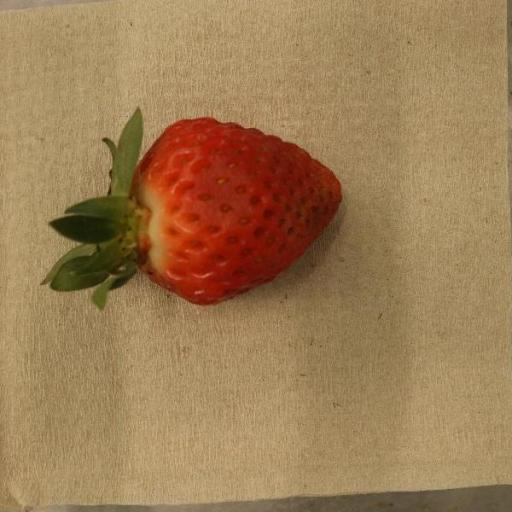Strawberry: (40, 109, 342, 311)
